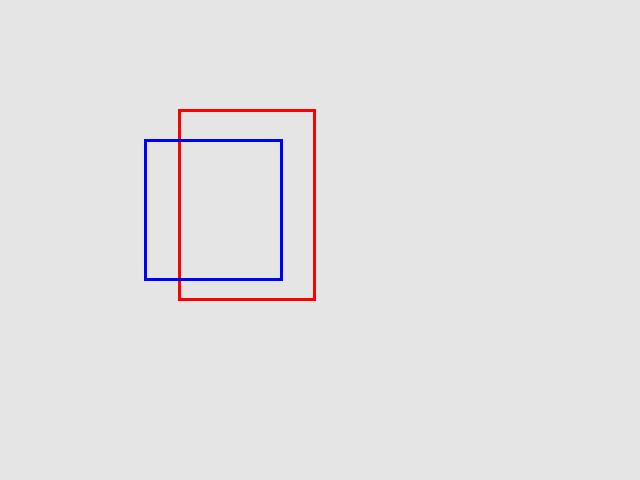car: (144, 139, 282, 280)
person: (178, 109, 315, 300)
